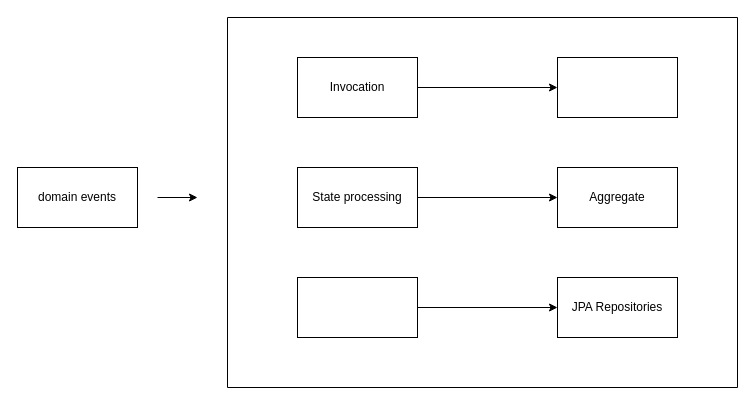
This 755x405 diagram has some shape labels left out. Each missing label, with the centre of its shape:
"Application Services" goes at pixel 617 87.
"State persistence" goes at pixel 357 307.
